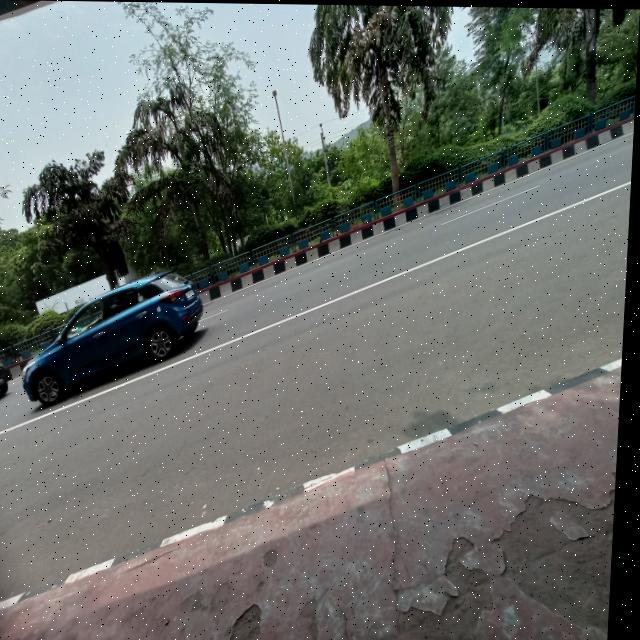car: (17, 267, 211, 408)
